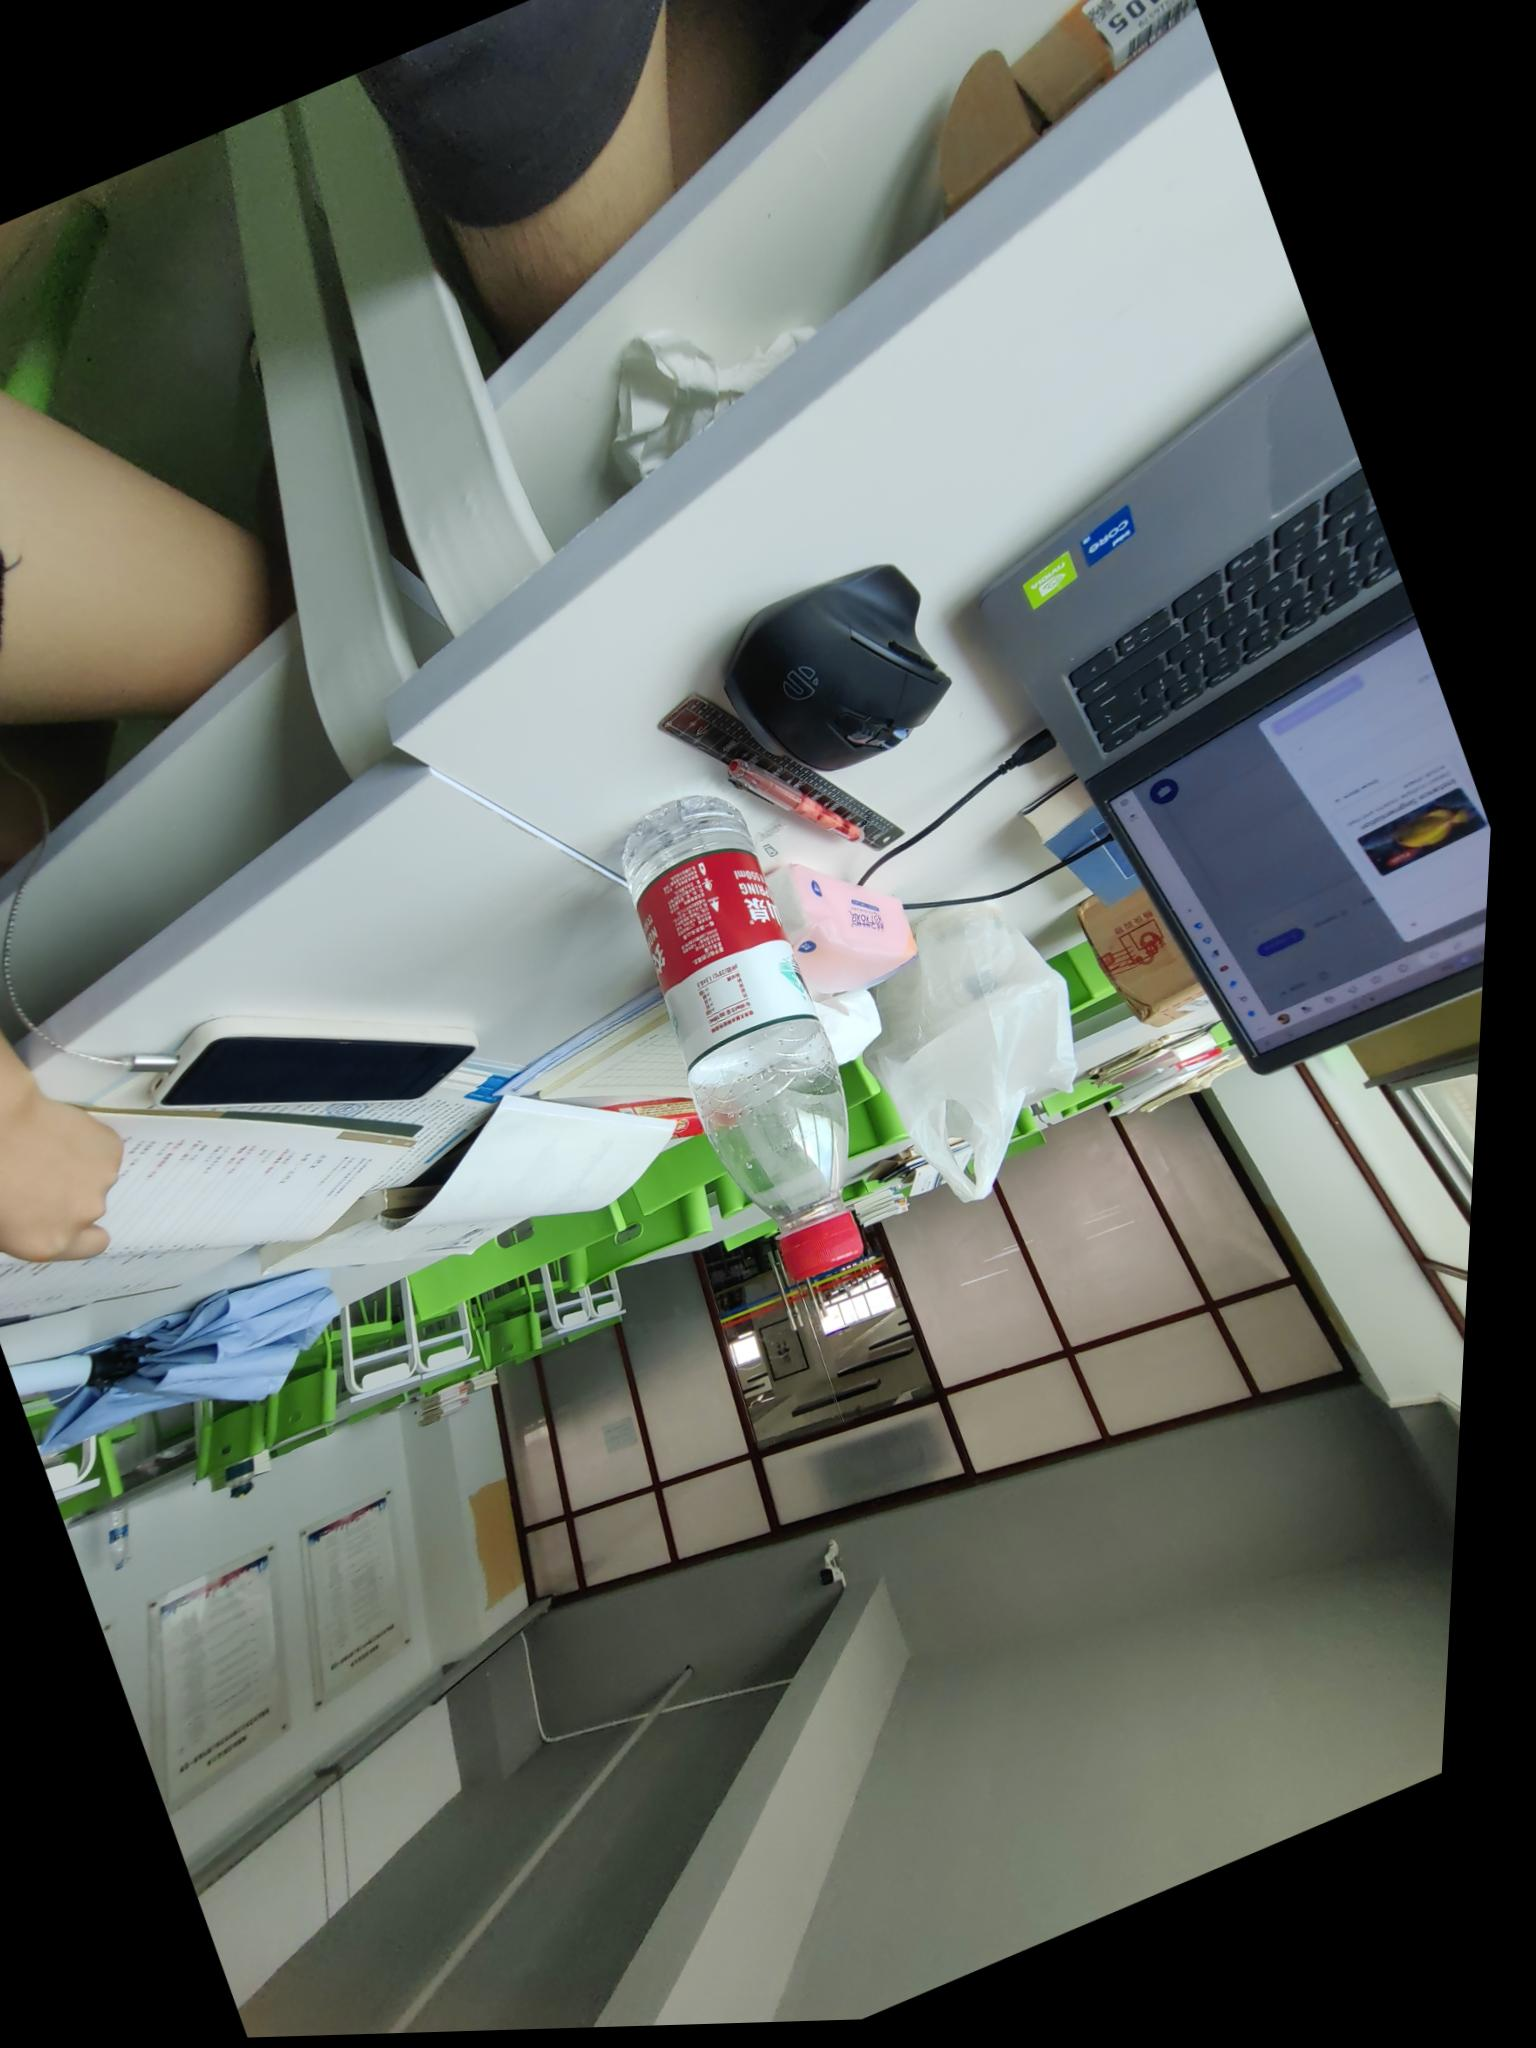plastic: (594, 795, 904, 1229)
